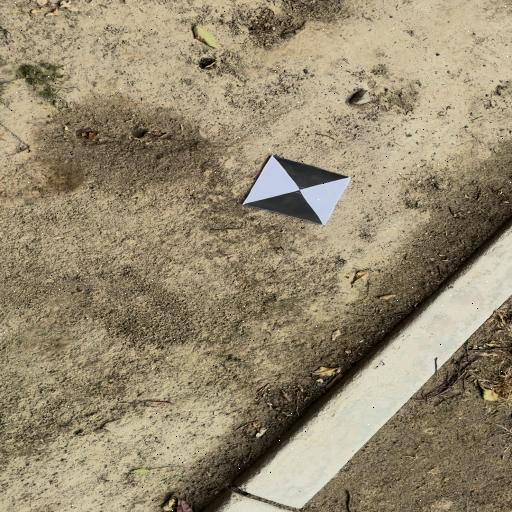target: (243, 157, 353, 223)
